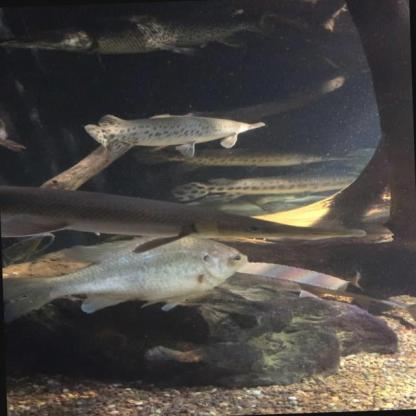fish: (0, 167, 369, 254), (1, 230, 256, 325), (0, 6, 293, 64), (81, 106, 271, 164), (111, 141, 369, 179), (162, 169, 374, 207), (0, 94, 30, 158)
